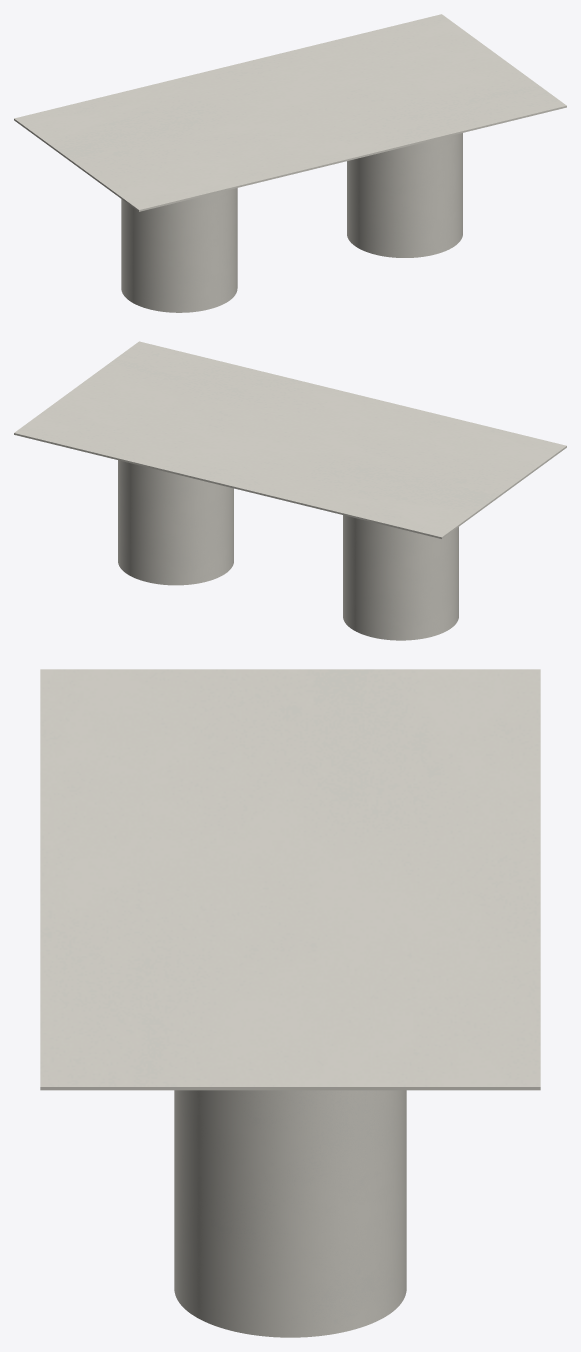
File: pale_recta_facet_stream.glb
3 views of the same model, one above another, from view 1: azimuth 30°, elevation 25°; view 2: azimuth 150°, elevation 25°; view 3: azimuth 270°, elevation 25° (orthographic). The views are drawn at different scales.
Parts seen in each view (by area): view 1: facet_recta, stream; view 2: facet_recta, stream; view 3: facet_recta, stream.
Part boxes in pixels (x1,y1,x2,y2): facet_recta: [14, 14, 566, 211]; stream: [121, 133, 462, 312]; facet_recta: [14, 341, 566, 538]; stream: [118, 460, 458, 640]; facet_recta: [40, 669, 540, 1090]; stream: [174, 1090, 406, 1337].
Size of the model in its own units: 7.5 by 2.5 by 3.8.
Materials: 1 (1 with a texture image).
